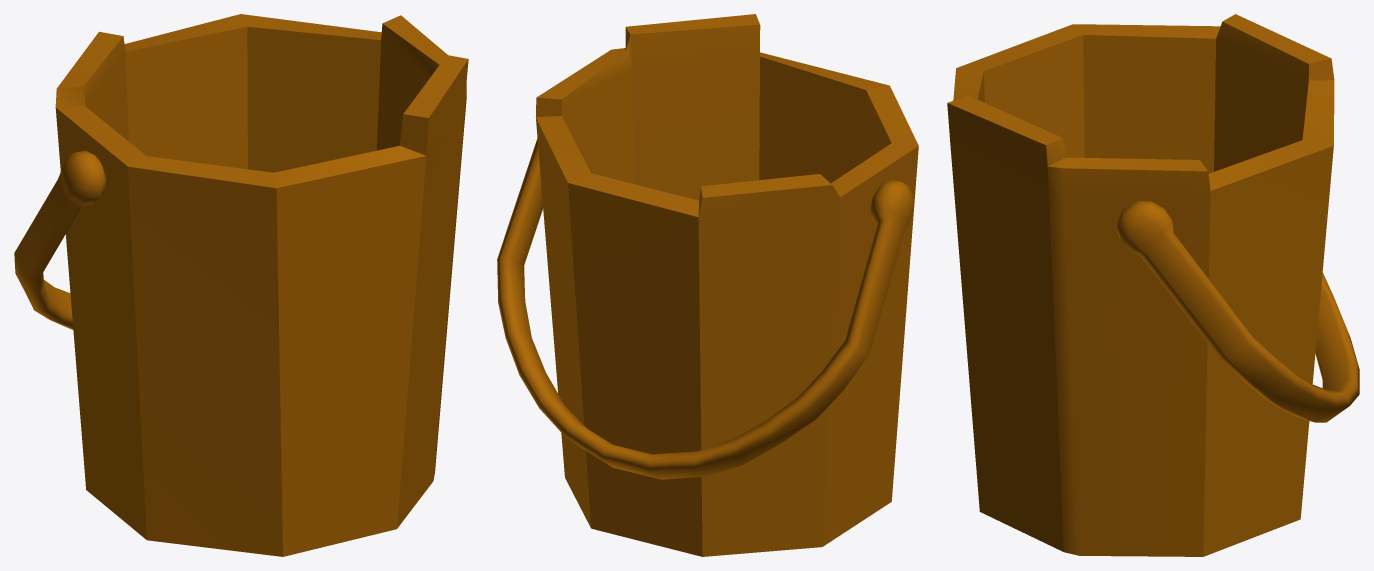
The model's file is Mod_bucket_LODs.fbx.
The picture shows the model from 3 angles, left to right: view 1: azimuth 30°, elevation 25°; view 2: azimuth 150°, elevation 25°; view 3: azimuth 270°, elevation 25°; orthographic projection. The views are drawn at different scales.
Visible parts, largest first — view 1: bucket_LOD0; view 2: bucket_LOD0; view 3: bucket_LOD0.
Part boxes in pixels (x1,y1,x2,y2): bucket_LOD0: (14,14,468,556); bucket_LOD0: (497,14,918,556); bucket_LOD0: (947,14,1359,556).
Bounding box in the file's own units: 36.35 × 37.78 × 33.58.
